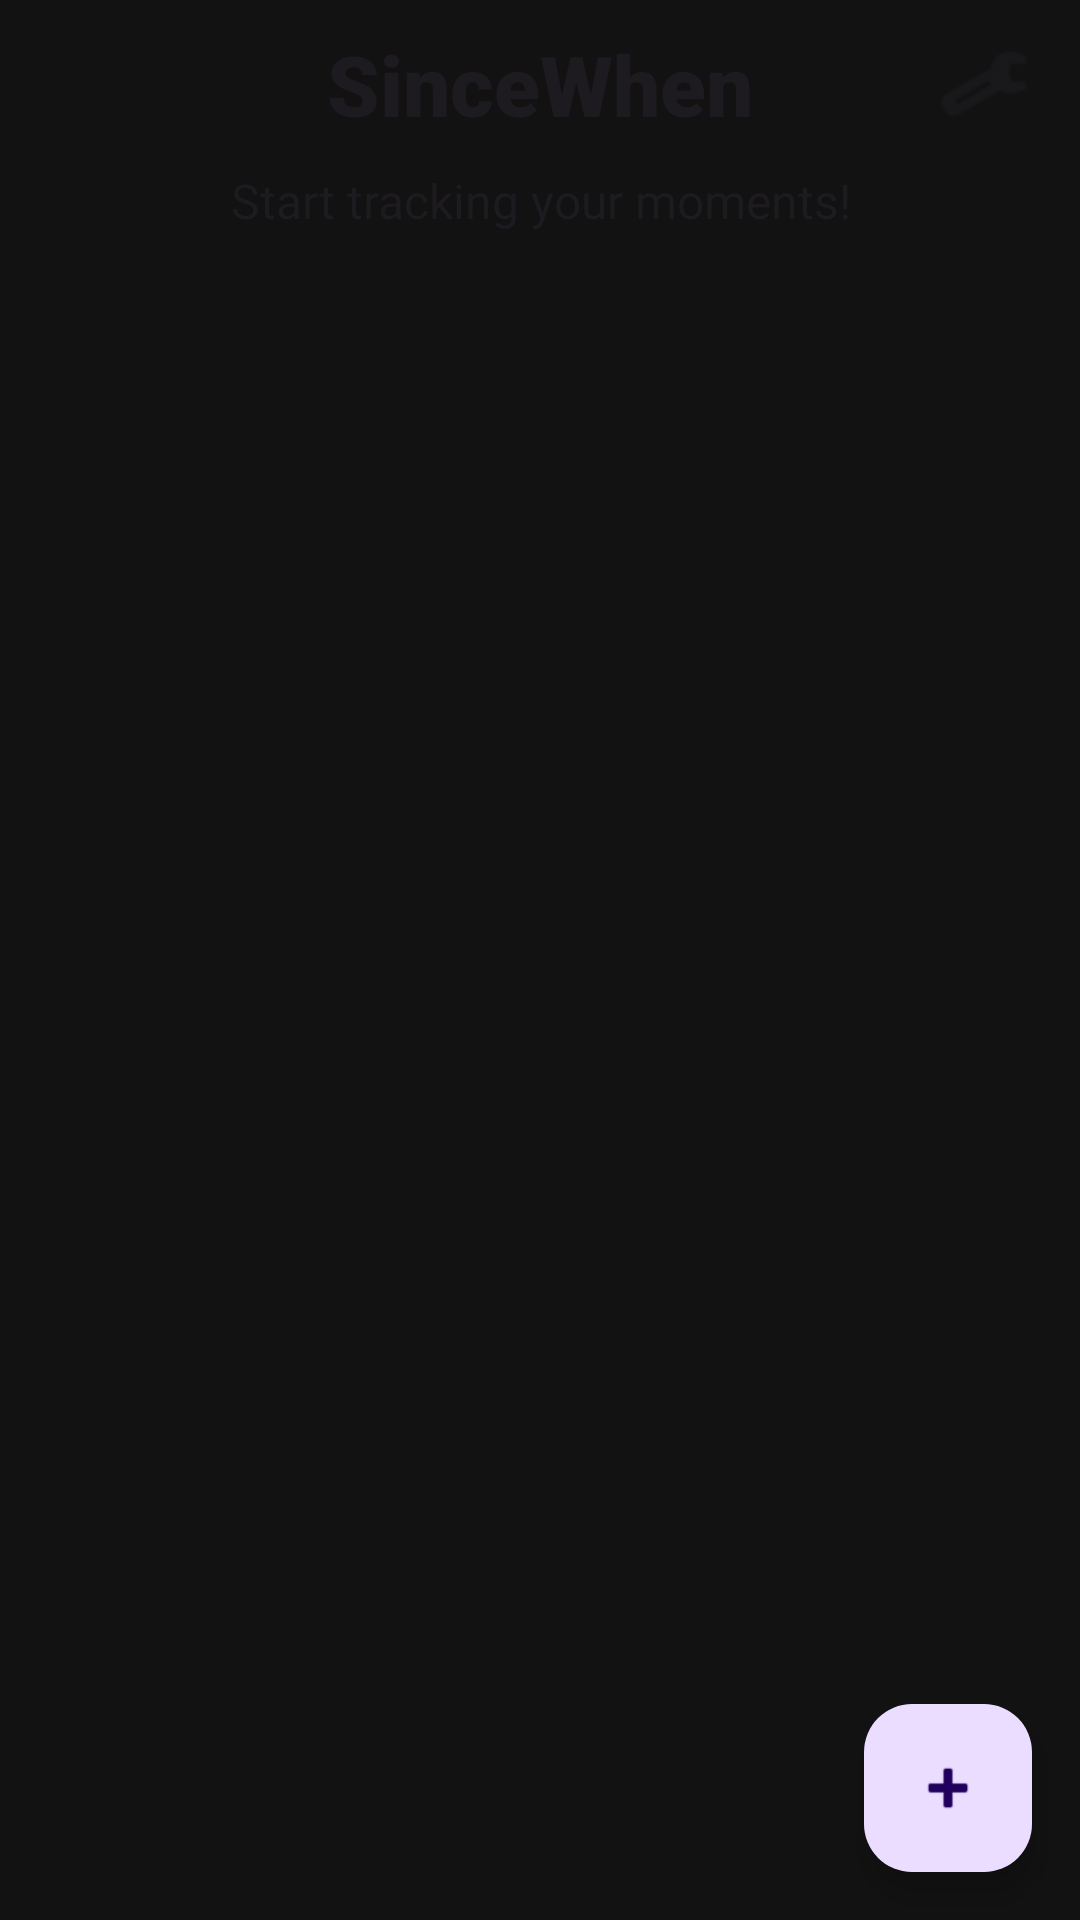

Icon click points for this 1080*1920 phone screenshot, format point (x, y):
Add moment: point (948, 1788)
